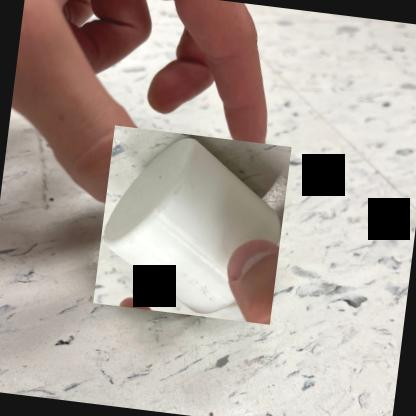white cylinder: (92, 125, 292, 324)
